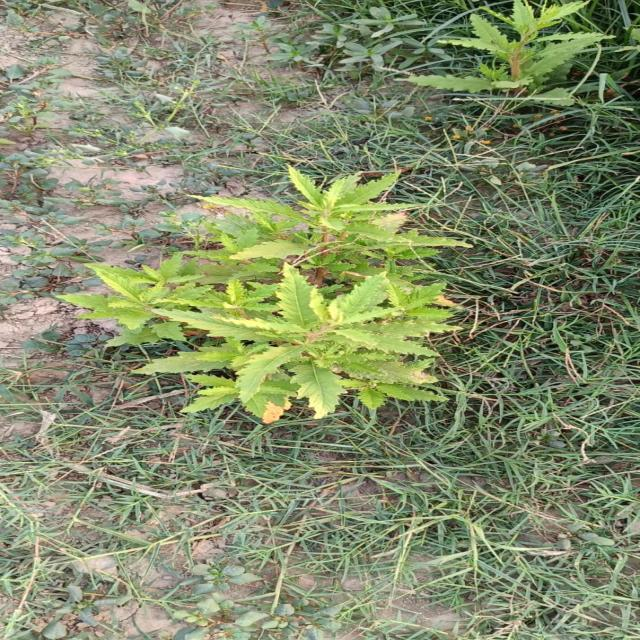plant: (62, 170, 466, 422)
